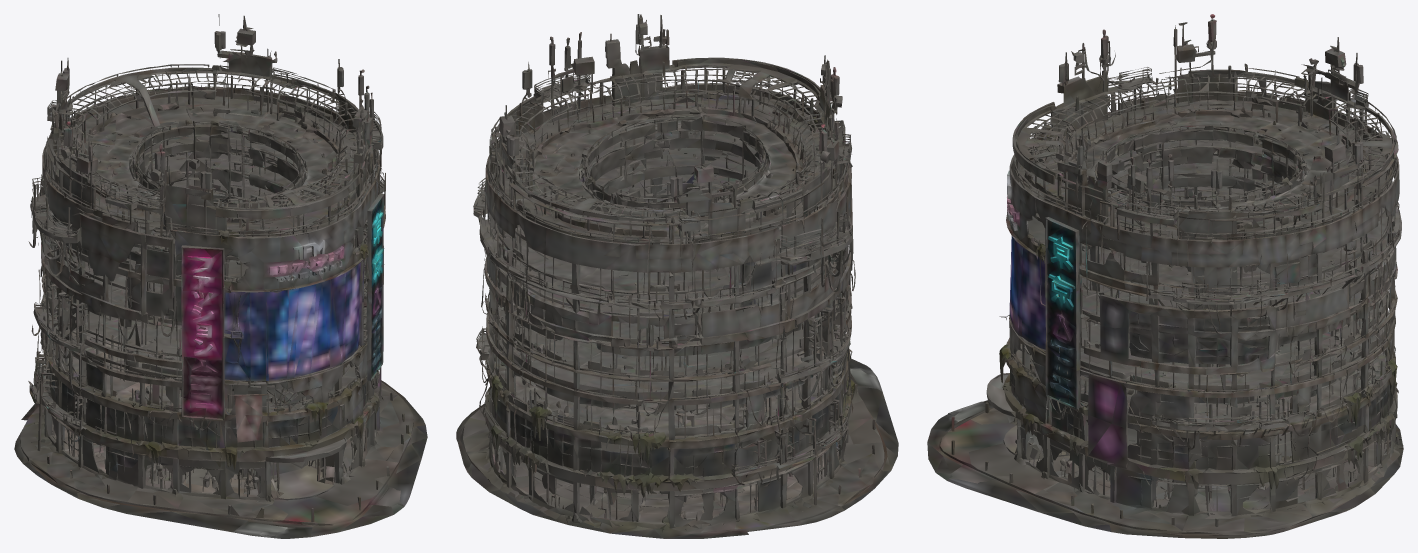
Rendered from tower-cylinder.glb.
The picture shows the model from 3 angles, left to right: view 1: azimuth 30°, elevation 25°; view 2: azimuth 150°, elevation 25°; view 3: azimuth 270°, elevation 25°; orthographic projection. The views are drawn at different scales.
Parts seen in each view (by area): view 1: output_unwrapped; view 2: output_unwrapped; view 3: output_unwrapped.
Boxes of the visible parts, left/top/right/bottom form: output_unwrapped: left=14, top=14, right=427, bottom=538; output_unwrapped: left=456, top=14, right=898, bottom=538; output_unwrapped: left=927, top=14, right=1403, bottom=538.
Bounding box in the file's own units: 1.72 × 1.61 × 1.9.
1 material, 1 textured.
